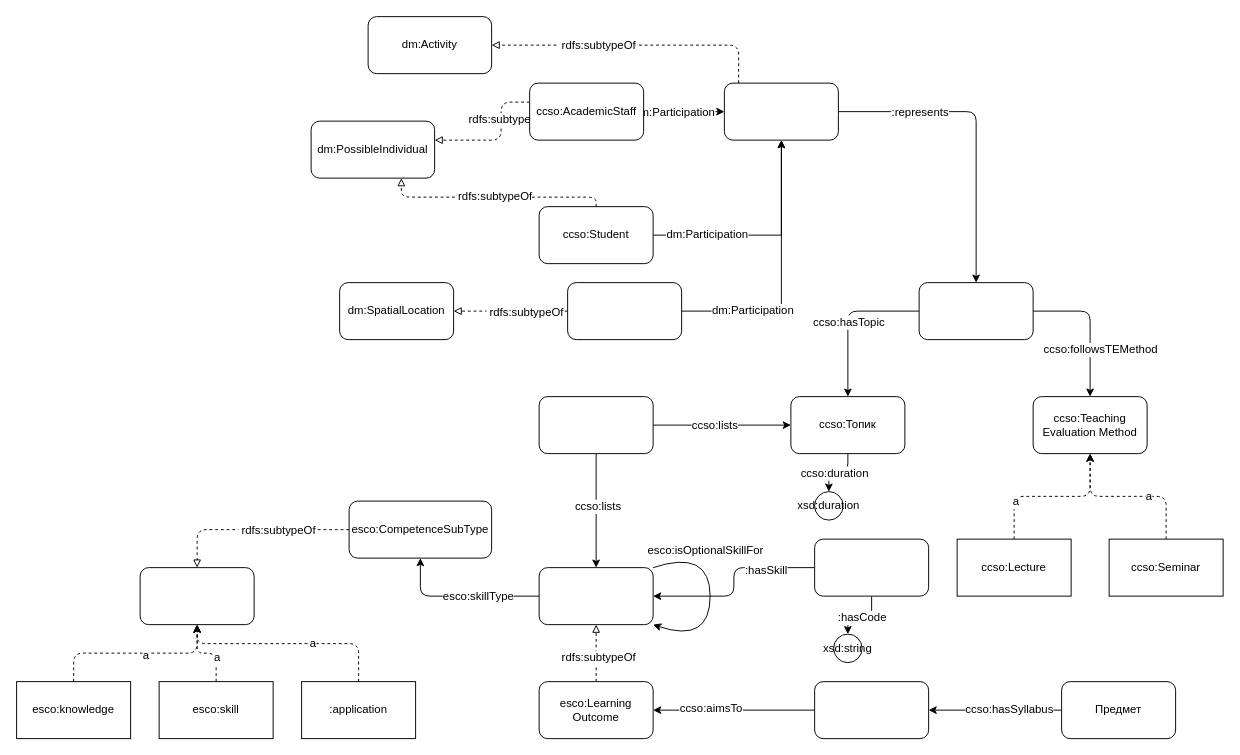
Some shapes in this 1240 by 755 pixel diagram are drawn without their labels. The centre of each missing label's shape, as x and y in pixels:
":Classroom" belongs at (x=624, y=311).
":СУОС" belongs at (x=871, y=567).
":Учебный процесс" belongs at (x=780, y=111).
"ccso:TeachingEvent" belongs at (x=975, y=311).
"ccso:Модуль" belongs at (x=595, y=425).
"ccso:Учебный план" belongs at (x=871, y=710).
"esco:Скилл" belongs at (x=595, y=596).
"skos:Concept" belongs at (x=196, y=596).
